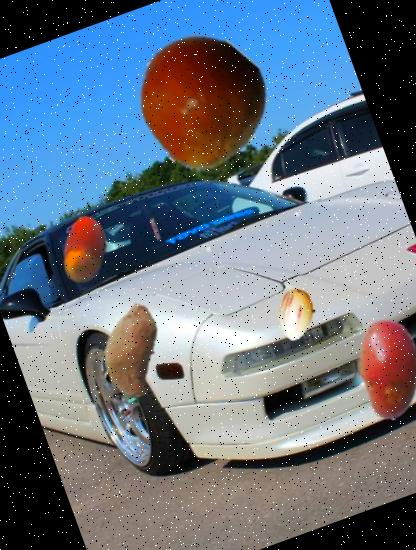Hazelnut: (40, 204, 130, 294)
Nut: (118, 19, 282, 182)
Pepino: (263, 280, 332, 348)
Potato: (67, 286, 194, 413), (322, 302, 416, 434)
